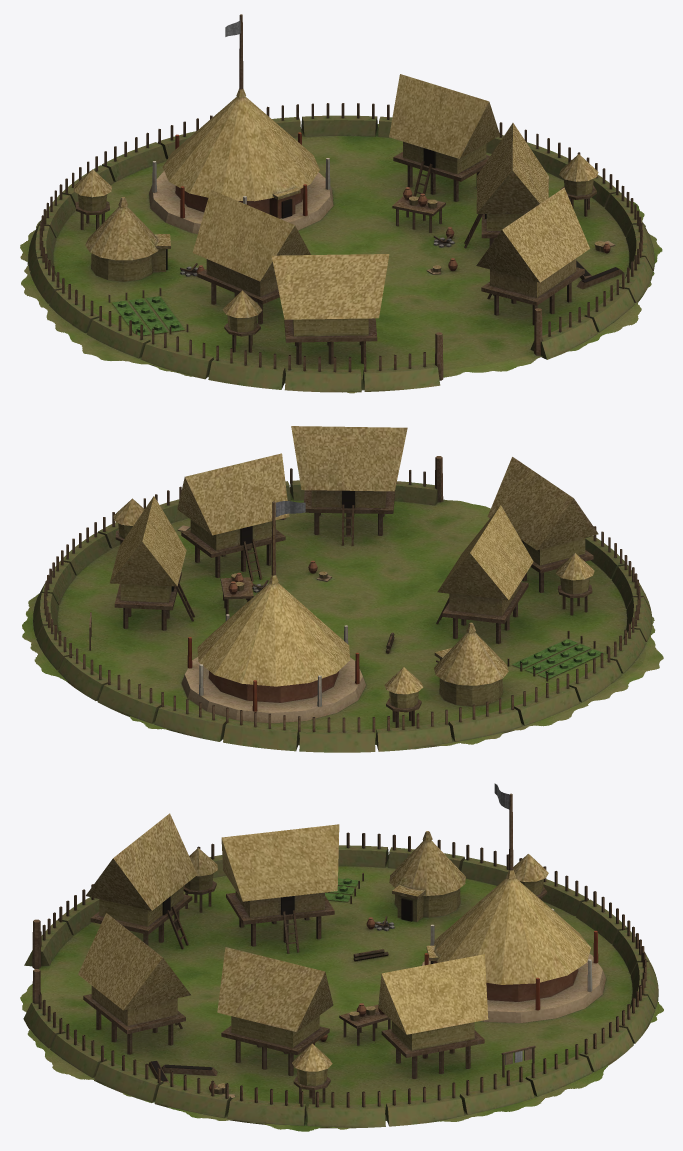
File: stone-town-small-b-monsoon.glb
The picture shows the model from 3 angles, top to bottom: view 1: azimuth 30°, elevation 25°; view 2: azimuth 150°, elevation 25°; view 3: azimuth 270°, elevation 25°; orthographic projection. The views are drawn at different scales.
Parts seen in each view (by area): view 1: LOD0; view 2: LOD0; view 3: LOD0.
Part boxes in pixels (x1,y1,x2,y2): LOD0: (20,14,662,393); LOD0: (22,426,663,752); LOD0: (20,783,663,1131).
Size of what is drawn, in the model's own units: 4.02 by 1.25 by 3.84.
3 materials, 3 textured.
